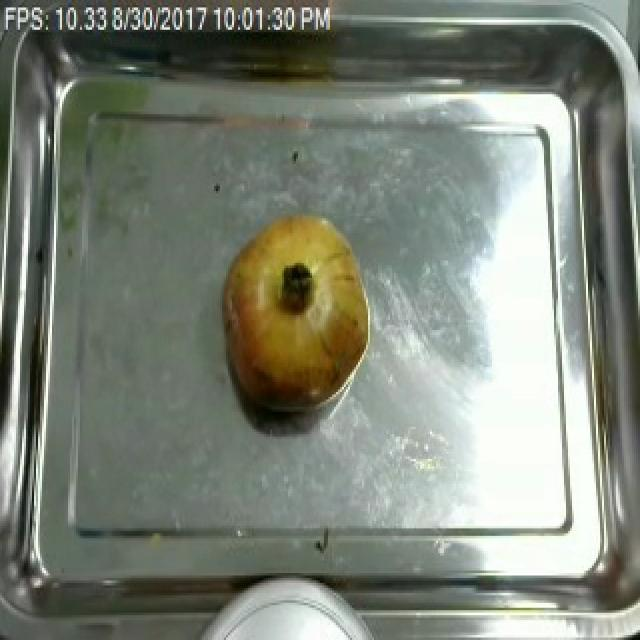fruit: (218, 201, 376, 427)
